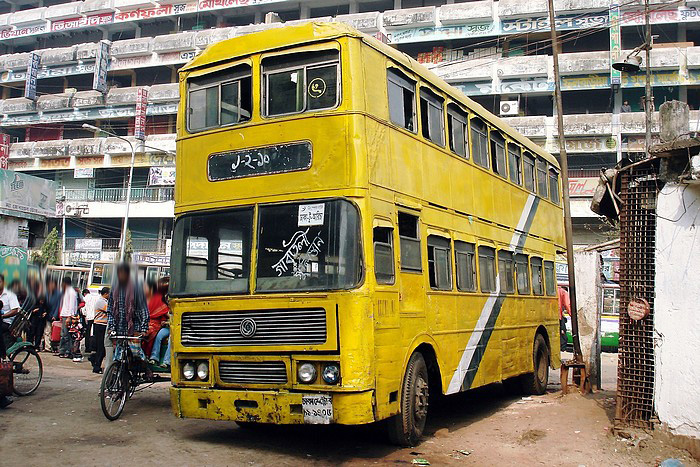bus: (176, 35, 570, 438)
rickshaw: (92, 258, 177, 420), (1, 281, 47, 397)
